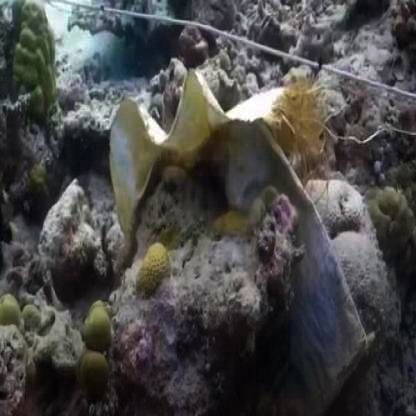plastic: (101, 80, 330, 209)
